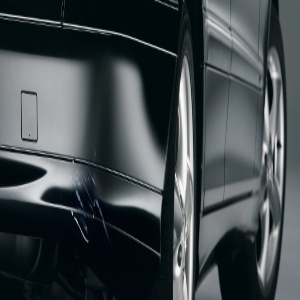bumper_scratch: (62, 145, 124, 251)
